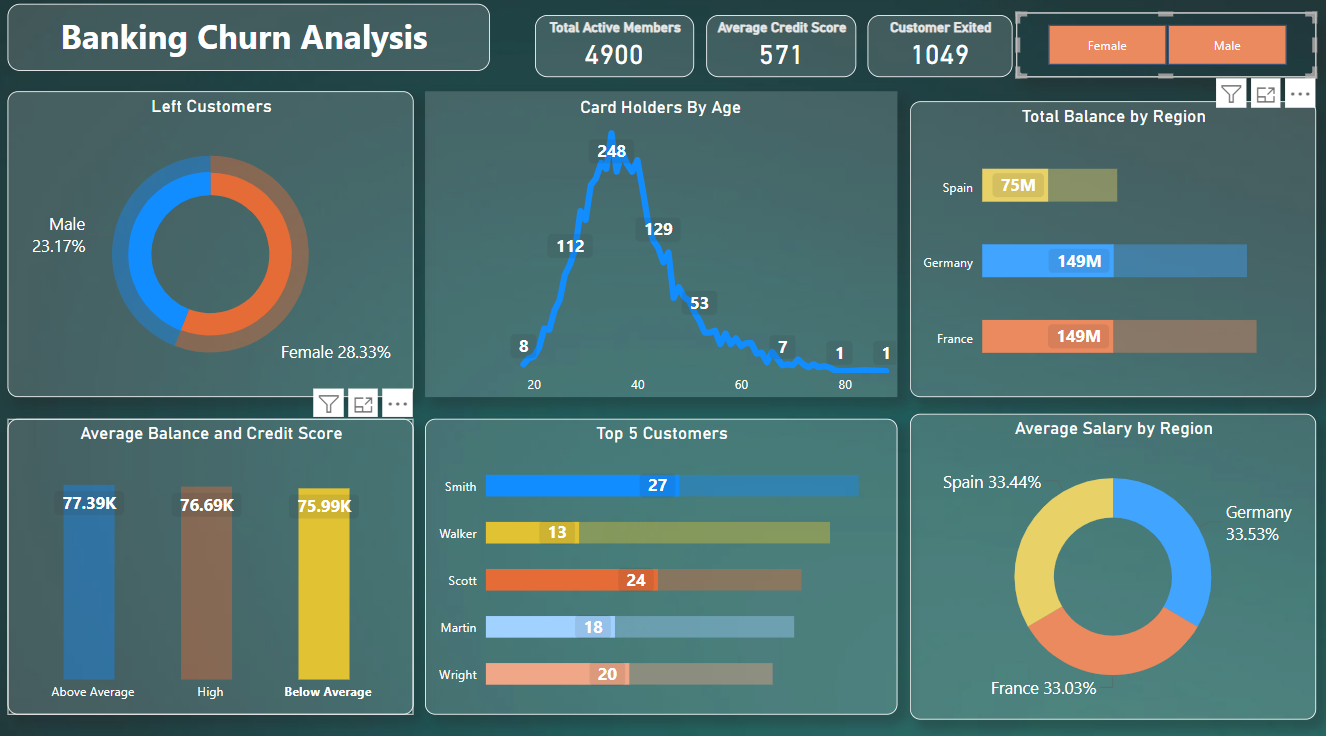

The page's visual inventory and layout, read from the dashboard file:
{"tool":"powerbi","page":{"name":"Page 1","canvas":[1280,720],"ordinal":0},"visuals":[{"type":"card","title":"Total Active Members","fields":{"Values":["CLEANED DATA.Customer_Id"]},"box":[516.4,19.3,153.2,60.3],"z":0},{"type":"card","title":"Average Credit Score","fields":{"Values":["CLEANED DATA.CreditScore"]},"box":[681.6,19.3,144.8,60.3],"z":1000},{"type":"slicer","fields":{"Values":["CLEANED DATA.Gender"]},"box":[980.8,16.9,289.5,62.7],"z":2000},{"type":"donutChart","title":"Average Salary by Region","fields":{"Category":["CLEANED DATA.Region"],"Y":["CLEANED DATA.EstimatedSalary"]},"box":[878.3,404.2,392.1,295.6],"z":3000},{"type":"card","title":"Customer Exited","fields":{"Values":["CLEANED DATA.Noofexit"]},"box":[837.3,19.3,139.9,60.3],"z":4000},{"type":"barChart","title":"Total Balance by Region","fields":{"Category":["CLEANED DATA.Region"],"Y":["CLEANED DATA.Balance"]},"box":[878.3,102.5,392.1,285.9],"z":5000},{"type":"textbox","box":[7.2,8.4,465.7,65.1],"z":6000},{"type":"donutChart","title":"Left Customers","fields":{"Category":["CLEANED DATA.Gender"],"Y":["CLEANED DATA.Noofexit"]},"box":[7.2,92.9,392.1,295.6],"z":7000},{"type":"clusteredColumnChart","title":"Average Balance and Credit Score","fields":{"Category":["CLEANED DATA.CreditScore_1"],"Y":["CLEANED DATA.Balance"]},"box":[7.2,409,392.1,285.9],"z":8000},{"type":"barChart","title":"Top 5 Customers","fields":{"Y":["CLEANED DATA.NumofProduct"],"Category":["CLEANED DATA.Username"]},"box":[410.2,409,456,285.9],"z":9000},{"type":"lineChart","title":"Card Holders By Age","fields":{"Category":["CLEANED DATA.Age"],"Y":["CLEANED DATA.HasCard"]},"box":[410.2,92.9,456,295.6],"z":10000}]}

Visuals, with their boxes in screenshot pixels (x1, y1, x2, y2), scaled from the page's 1280x720 canvas onto the 1326x736 screenshot:
"Total Active Members" card: BBox(535, 20, 694, 81)
"Average Credit Score" card: BBox(706, 20, 856, 81)
slicer - CLEANED DATA.Gender: BBox(1016, 17, 1316, 81)
"Average Salary by Region" donutChart: BBox(910, 413, 1316, 715)
"Customer Exited" card: BBox(867, 20, 1012, 81)
"Total Balance by Region" barChart: BBox(910, 105, 1316, 397)
textbox: BBox(7, 9, 490, 75)
"Left Customers" donutChart: BBox(7, 95, 414, 397)
"Average Balance and Credit Score" clusteredColumnChart: BBox(7, 418, 414, 710)
"Top 5 Customers" barChart: BBox(425, 418, 897, 710)
"Card Holders By Age" lineChart: BBox(425, 95, 897, 397)
